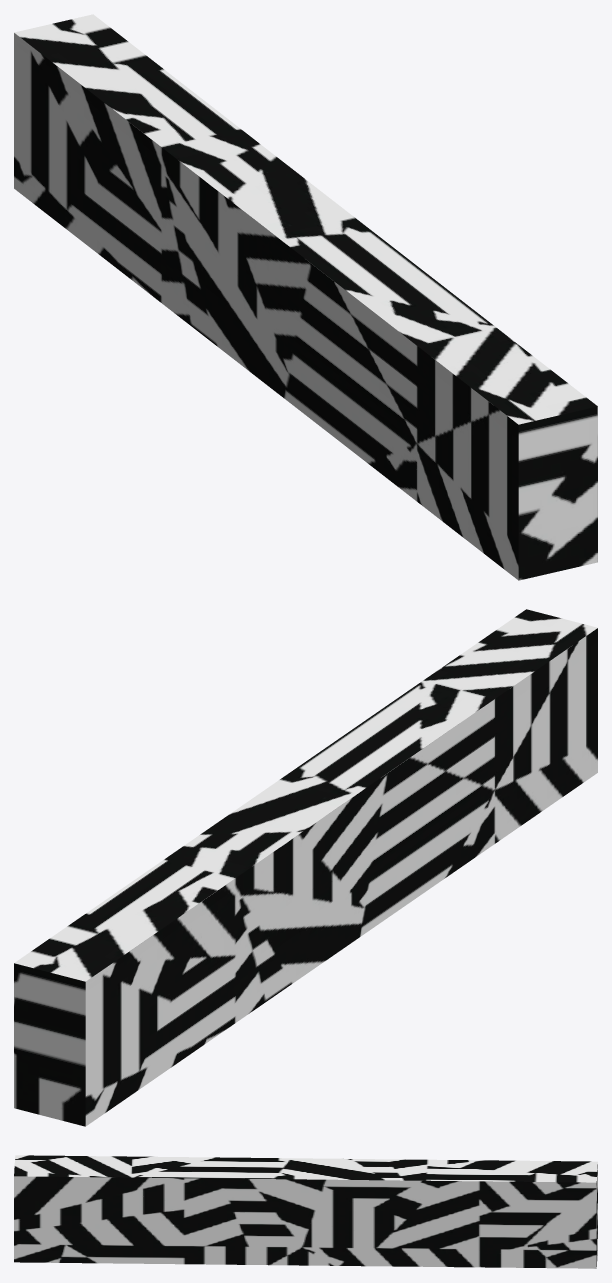
3 renders of one model, top to bottom at view 1: azimuth 30°, elevation 25°; view 2: azimuth 150°, elevation 25°; view 3: azimuth 270°, elevation 25°, orthographic. The views are drawn at different scales.
Parts seen in each view (by area): view 1: Cube.001; view 2: Cube.001; view 3: Cube.001.
Boxes of the visible parts, <box> form: Cube.001: <box>14,14,597,580</box>; Cube.001: <box>14,609,597,1126</box>; Cube.001: <box>14,1155,597,1268</box>.
Size of the model in its own units: 0.3843 by 0.5648 by 3.47.
1 material, 1 textured.
